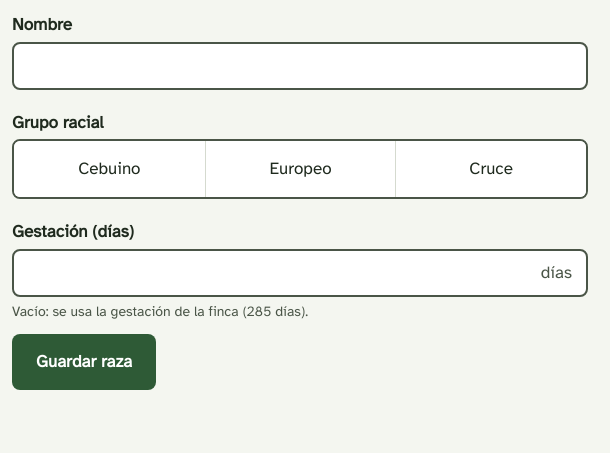
Test: BreedForm › un nombre repetido se muestra junto al campo del nombre
Type "brahman" into the field labelled "Nombre" at [300, 66], box x1=12 y1=42 x2=588 y2=90
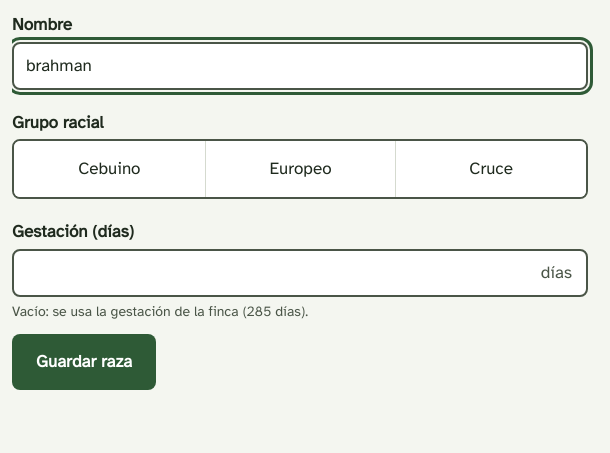
Click the radio button labelled "Cebuino" at [109, 169], box x1=14 y1=141 x2=205 y2=197
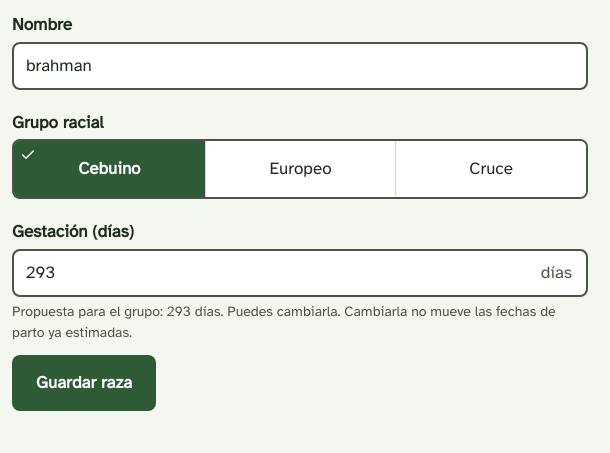
Click the button "Guardar raza" at [84, 382], box x1=12 y1=354 x2=156 y2=410
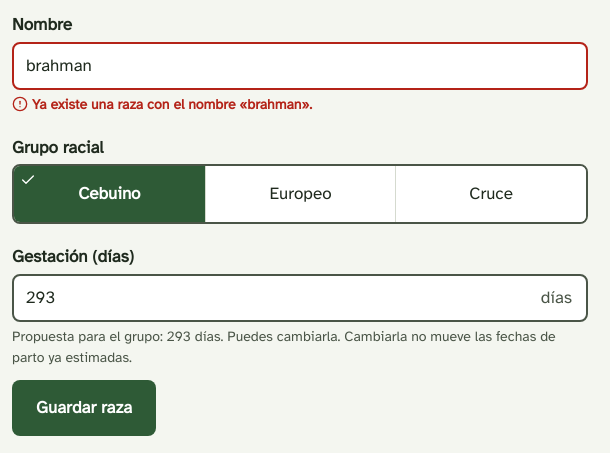
expect the text "Ya existe una raza con el nombre «brahman»." is shown: met, box x1=12 y1=96 x2=312 y2=112
